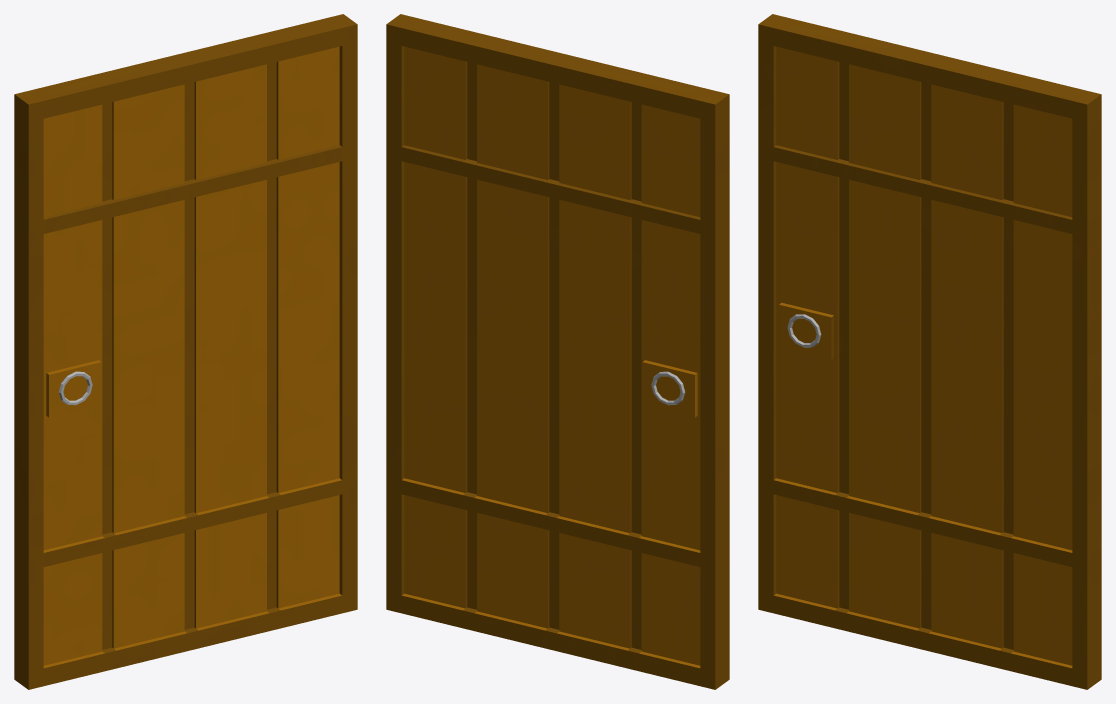
The model's file is Door_4.fbx.
3 views of the same model, side by side, from view 1: azimuth 30°, elevation 25°; view 2: azimuth 150°, elevation 25°; view 3: azimuth 330°, elevation 25° (orthographic).
Visible parts, largest first — view 1: Door 4; view 2: Door 4; view 3: Door 4.
Boxes of the visible parts, box(x1,y1,x2,y2) form: Door 4: box(14, 14, 357, 689); Door 4: box(386, 14, 729, 689); Door 4: box(758, 14, 1101, 689).
Size of the model in its own units: 121 by 206 by 11.16.
